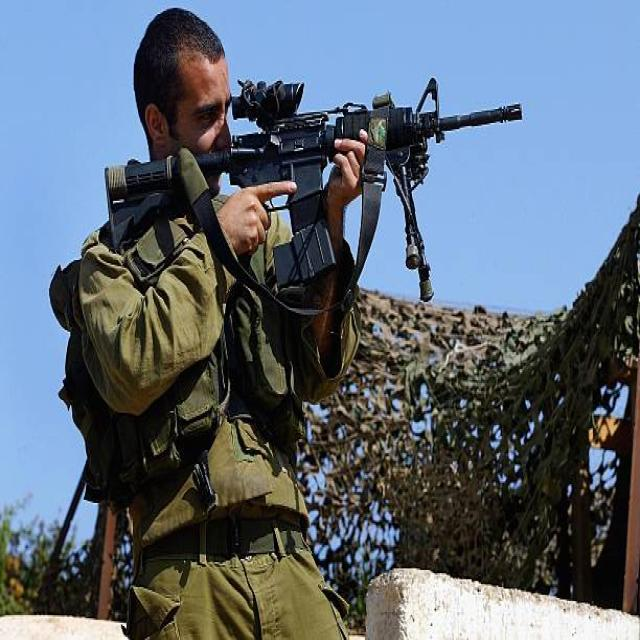soldier: (63, 10, 527, 640)
